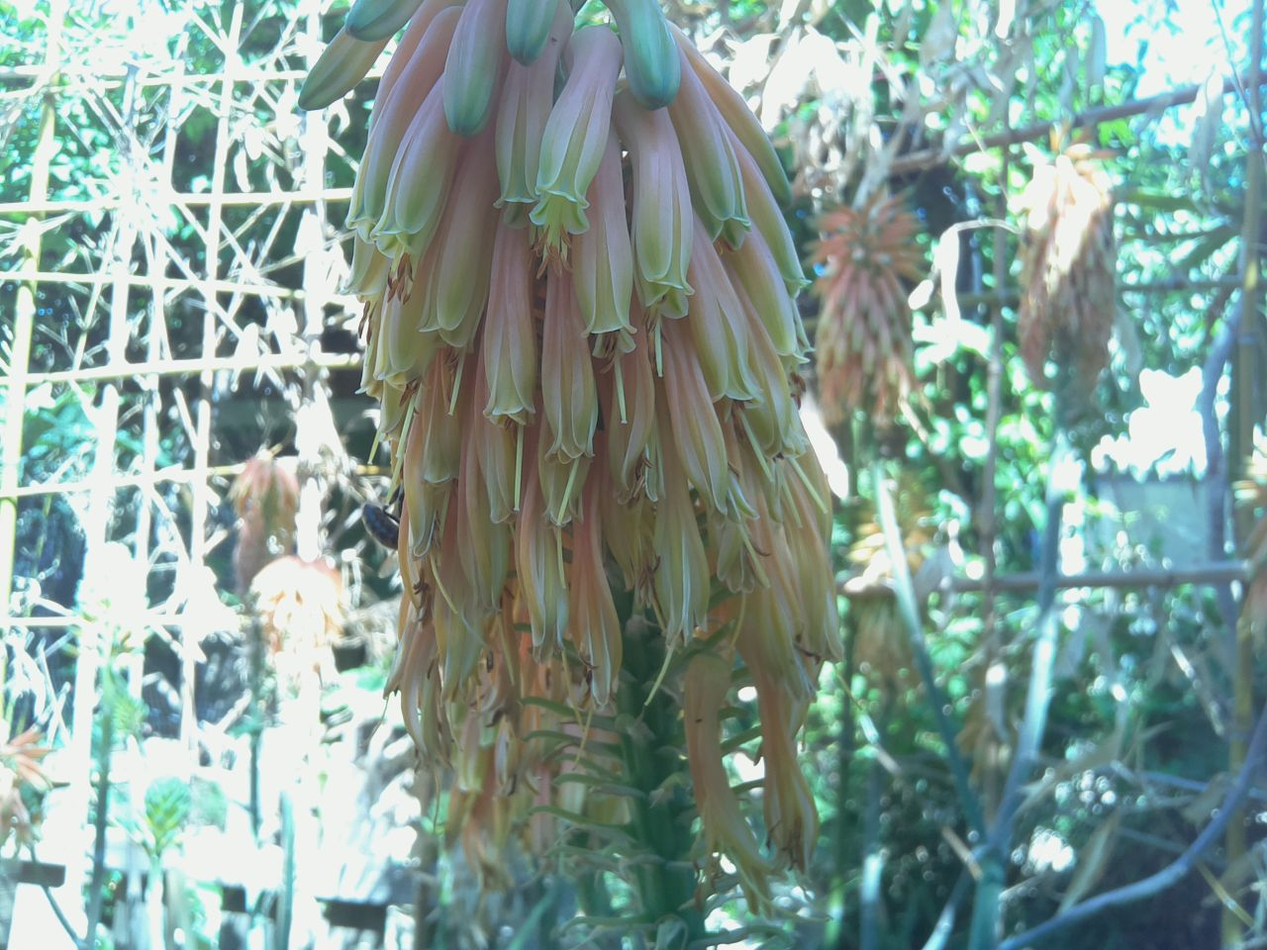Apis mellifera: (337, 477, 429, 571)
